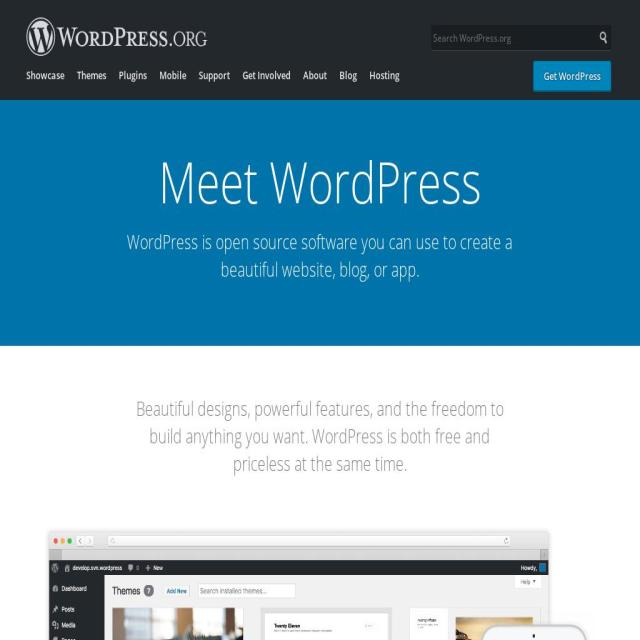button: (534, 62, 610, 100), (533, 61, 611, 91), (239, 61, 294, 99), (23, 61, 68, 99), (195, 61, 234, 99), (73, 61, 110, 99), (366, 61, 403, 99), (115, 61, 151, 99), (156, 61, 190, 99), (300, 61, 330, 99), (336, 61, 360, 99), (595, 25, 611, 50)
field: (431, 25, 595, 50)
heading: (18, 153, 622, 211), (26, 0, 215, 73)
image: (49, 531, 549, 640), (471, 609, 596, 640)
text: (120, 385, 520, 487), (120, 218, 520, 292)
